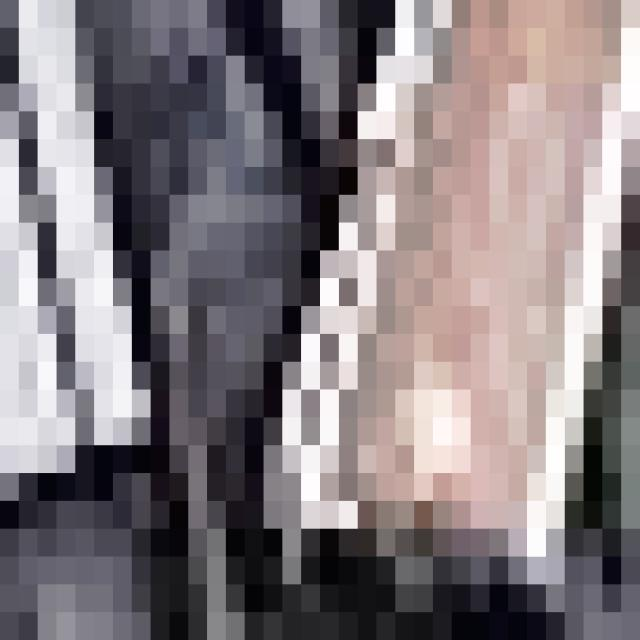arms: (219, 0, 640, 629)
